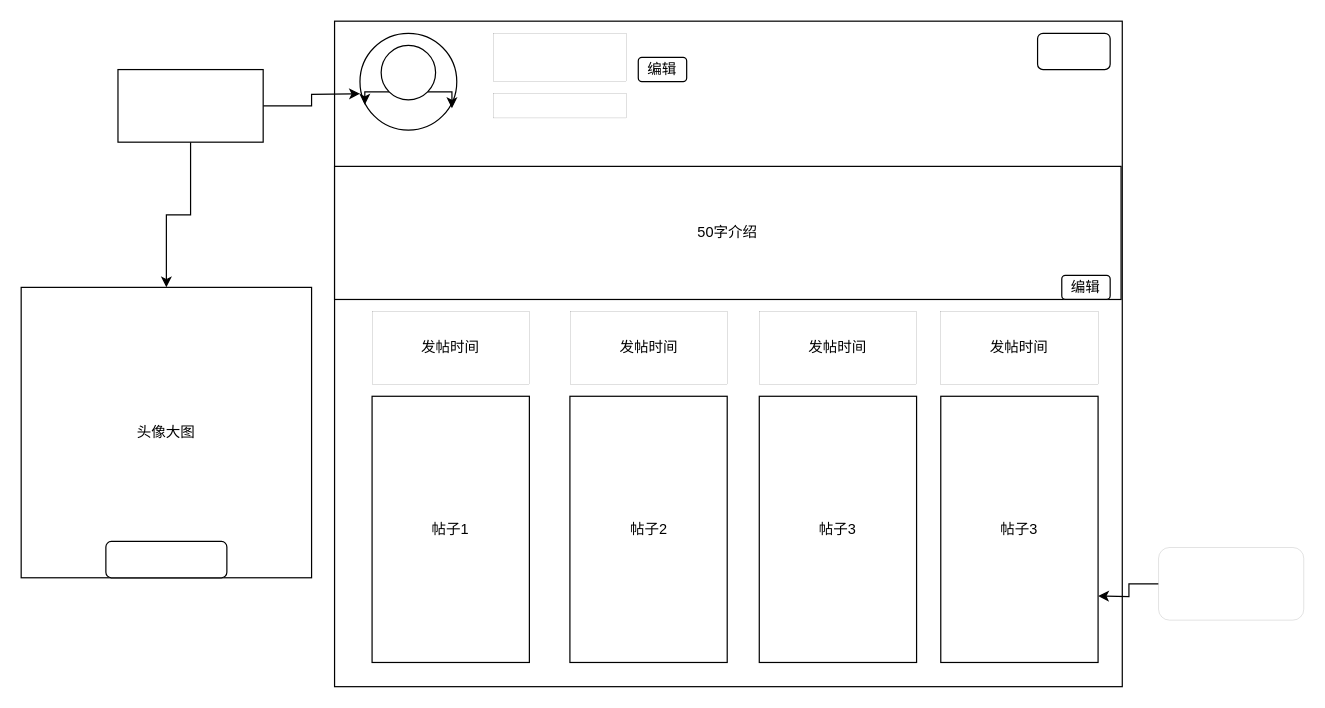
The diagram is 1325 pixels wide and 708 high, and some of its shapes have lost their labels. The shapes that lost their labels are listed below. From the top down, each one's centre as x and y in pixels, then its label:
At pixel 559 57: "用户昵称".
At pixel 1073 51: "关闭".
At pixel 190 105: "点击头像".
At pixel 559 105: "用户id".
At pixel 166 559: "更换头像".
At pixel 1230 583: "点击帖子跳转帖子界面".
